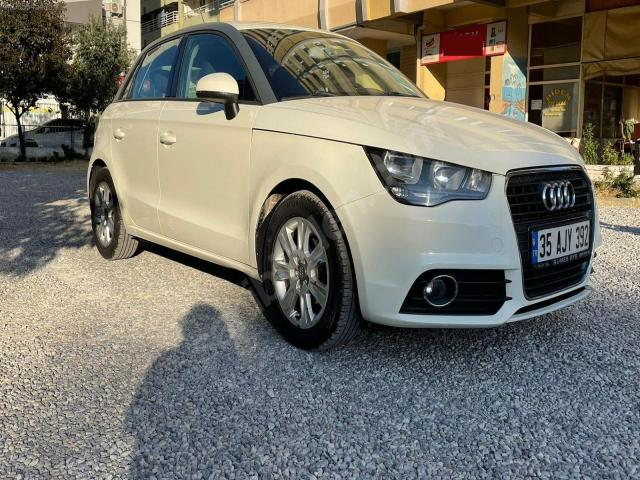plaka: (531, 220, 590, 264)
